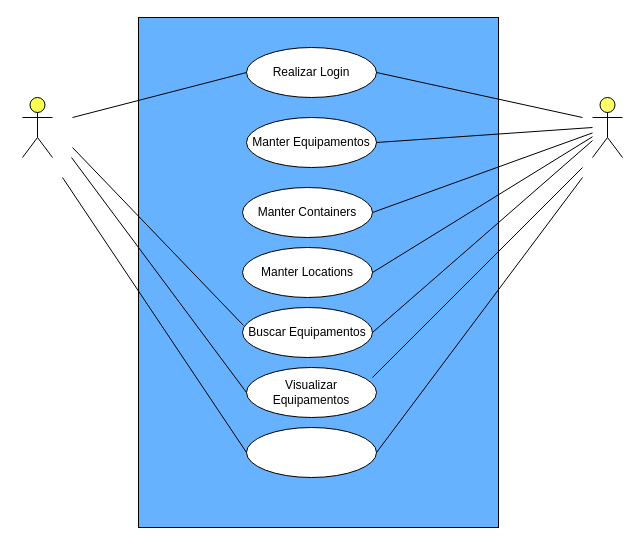
Some shapes in this 642 by 545 pixel diagram are drawn without their labels. The centre of each missing label's shape, as x and y in pixels:
Admin: the point at 607,127
Realizar Logout: the point at 311,452
Usuario: the point at 37,127
